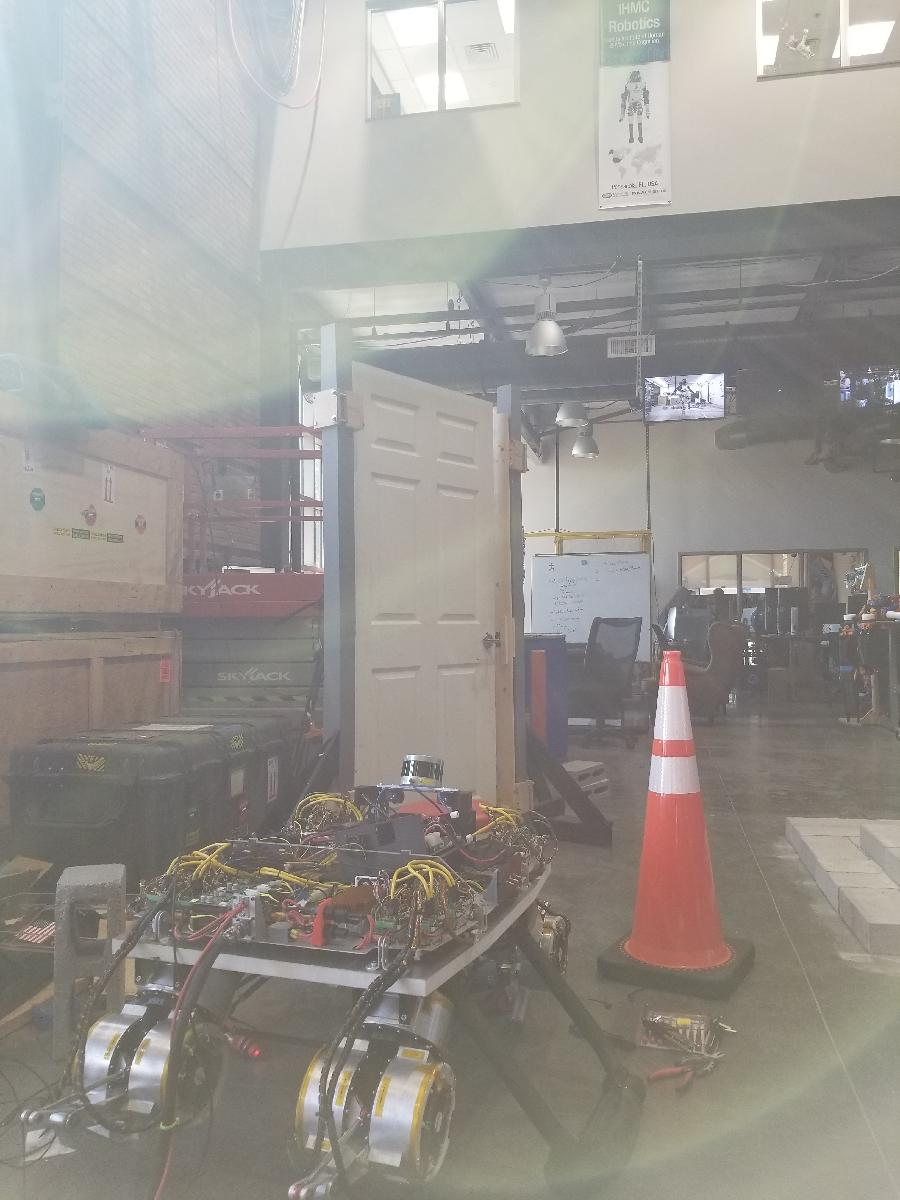door: (346, 358, 505, 862)
doorHandle: (473, 628, 506, 657)
